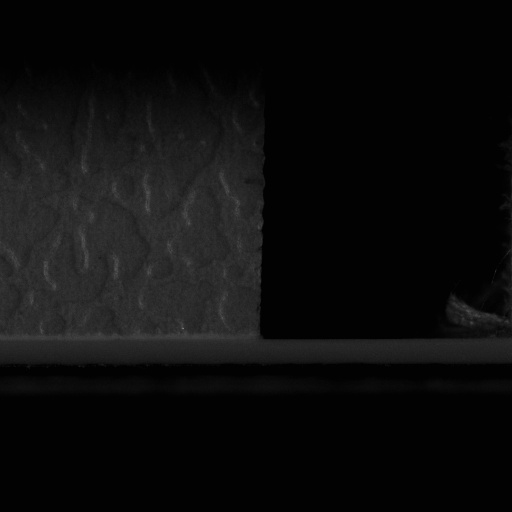changdai: (258, 335, 507, 366)
